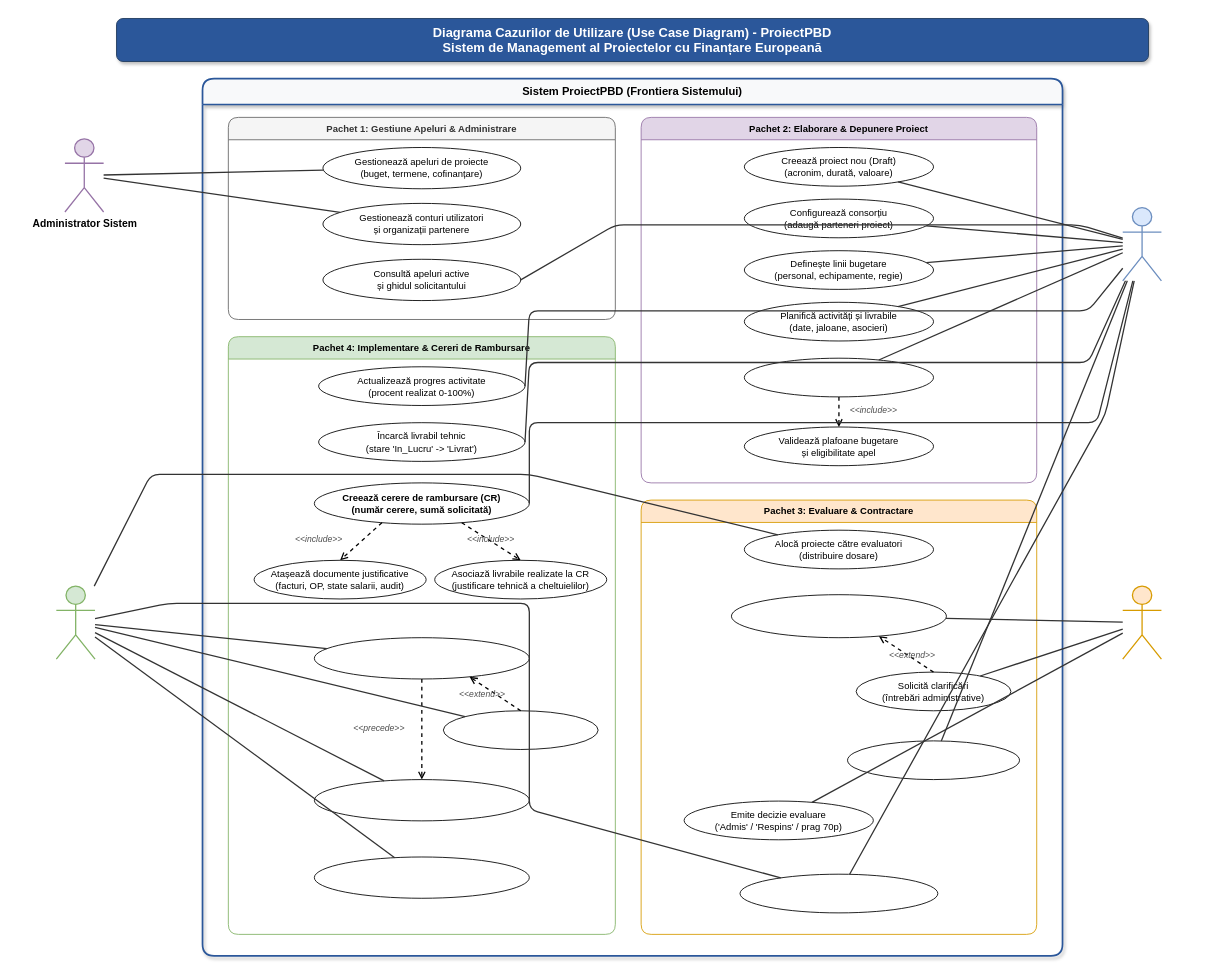
Some shapes in this 1213 by 978 pixel diagram are drawn without their labels. The centre of each missing label's shape, as x and y in pixels:
Aplică deduceri / corecții (ajustare sumă neeligibilă): the point at 520,729
Autorizează plata cererii (stare 'Aprobata', sumă aprobată): the point at 421,800
Completează fișă evaluare (punctaj criterii administrative & tehnice): the point at 838,616
Depune proiect oficial (trecere în starea 'Depus'): the point at 838,377
Evaluator Independent: the point at 1142,622
Ofițer AM (Autoritate Management): the point at 75,622
Solicitant / Lider Parteneriat: the point at 1142,244
Transmite răspuns la clarificări (completare documente): the point at 933,760
Validează finalizarea proiectului (trecere în starea 'Finalizat'): the point at 421,877
Verifică cerere și documente (eligibilitate, starea 'In_Verificare'): the point at 421,658
Încheie contract de finanțare (trecere în starea 'Contractat'): the point at 838,893
